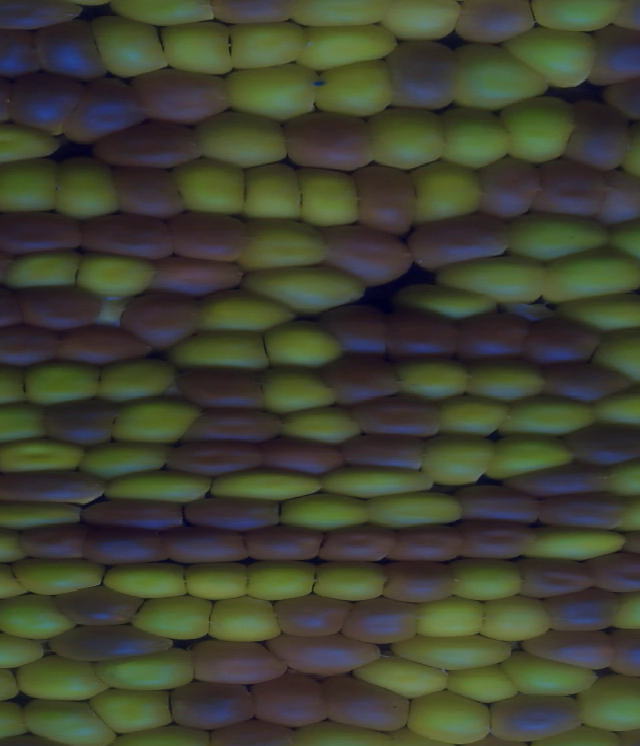fluorescent: (452, 44, 548, 107), (438, 255, 554, 304), (246, 268, 372, 312), (504, 26, 593, 85), (506, 209, 610, 258), (197, 112, 288, 166), (89, 13, 168, 75), (543, 253, 640, 302), (230, 66, 323, 117), (368, 106, 445, 167), (438, 104, 515, 165), (503, 96, 573, 161), (317, 60, 395, 117), (24, 695, 120, 741), (16, 656, 106, 703), (178, 157, 249, 216), (356, 657, 453, 700), (168, 332, 272, 372), (54, 157, 120, 220), (238, 222, 328, 268), (506, 652, 598, 697), (198, 292, 292, 335), (297, 24, 398, 64), (95, 650, 193, 691), (413, 162, 480, 221), (408, 692, 491, 739), (395, 635, 515, 667), (163, 22, 233, 76), (298, 168, 363, 226), (573, 676, 640, 732), (78, 254, 156, 302), (365, 493, 461, 532), (425, 433, 494, 486), (484, 434, 575, 474), (94, 687, 173, 733), (206, 594, 283, 641), (245, 159, 302, 222), (466, 356, 544, 401), (232, 21, 306, 68), (402, 282, 496, 319), (0, 160, 61, 216), (98, 360, 175, 404), (112, 402, 196, 442), (11, 558, 104, 594), (211, 471, 319, 502), (25, 362, 101, 406), (133, 596, 214, 637), (524, 530, 627, 562), (268, 322, 338, 369), (507, 397, 593, 435), (322, 466, 434, 495), (415, 595, 484, 642), (0, 439, 85, 477), (103, 562, 191, 598), (313, 558, 388, 600), (439, 392, 507, 438), (0, 597, 73, 639), (281, 493, 365, 529), (82, 442, 168, 477), (0, 499, 86, 534), (265, 370, 333, 414), (484, 594, 550, 639), (106, 472, 212, 500), (451, 559, 520, 602), (443, 664, 520, 702), (7, 252, 82, 291), (561, 292, 640, 329), (399, 356, 468, 397), (386, 2, 458, 41), (247, 562, 320, 600), (0, 122, 62, 163), (592, 332, 640, 384), (187, 567, 253, 598), (0, 403, 45, 445), (596, 389, 640, 425), (0, 637, 42, 668)
nonfluorescent: (323, 226, 412, 283), (144, 65, 232, 122), (103, 122, 198, 173), (286, 113, 368, 172), (389, 40, 458, 110), (325, 677, 411, 729), (48, 627, 174, 662), (188, 639, 288, 683), (274, 632, 375, 675), (35, 25, 108, 84), (83, 214, 177, 259), (566, 102, 629, 169), (6, 72, 73, 134), (167, 682, 257, 728), (355, 392, 441, 440), (473, 160, 544, 218), (412, 217, 509, 259), (73, 77, 144, 134), (323, 353, 402, 404), (488, 692, 586, 733), (119, 293, 193, 347), (81, 495, 186, 533), (253, 677, 328, 730), (148, 254, 240, 297), (180, 367, 266, 412), (457, 311, 534, 361), (359, 163, 413, 234), (18, 286, 103, 331), (545, 361, 628, 407), (260, 435, 346, 479), (452, 2, 536, 47), (532, 157, 603, 210), (39, 398, 117, 446), (49, 589, 142, 629), (0, 472, 109, 506), (338, 432, 433, 471), (0, 213, 83, 257), (525, 630, 616, 670), (173, 212, 245, 262), (388, 306, 458, 357), (539, 494, 623, 536), (526, 317, 600, 364), (118, 167, 180, 223), (328, 307, 392, 360), (168, 441, 262, 477), (458, 486, 542, 526), (57, 329, 145, 367), (313, 524, 391, 566), (164, 527, 247, 566), (185, 495, 283, 528), (82, 527, 163, 566), (242, 524, 325, 562), (513, 465, 605, 499), (516, 558, 595, 597), (589, 26, 640, 86), (185, 411, 278, 443), (274, 596, 344, 638), (548, 590, 621, 630), (383, 564, 454, 605), (572, 427, 640, 469), (391, 526, 467, 562), (348, 602, 414, 642), (20, 523, 88, 561), (459, 524, 530, 560), (0, 322, 58, 364), (599, 170, 640, 227), (0, 1, 83, 28), (0, 31, 43, 77), (597, 553, 640, 595), (604, 72, 640, 121)
